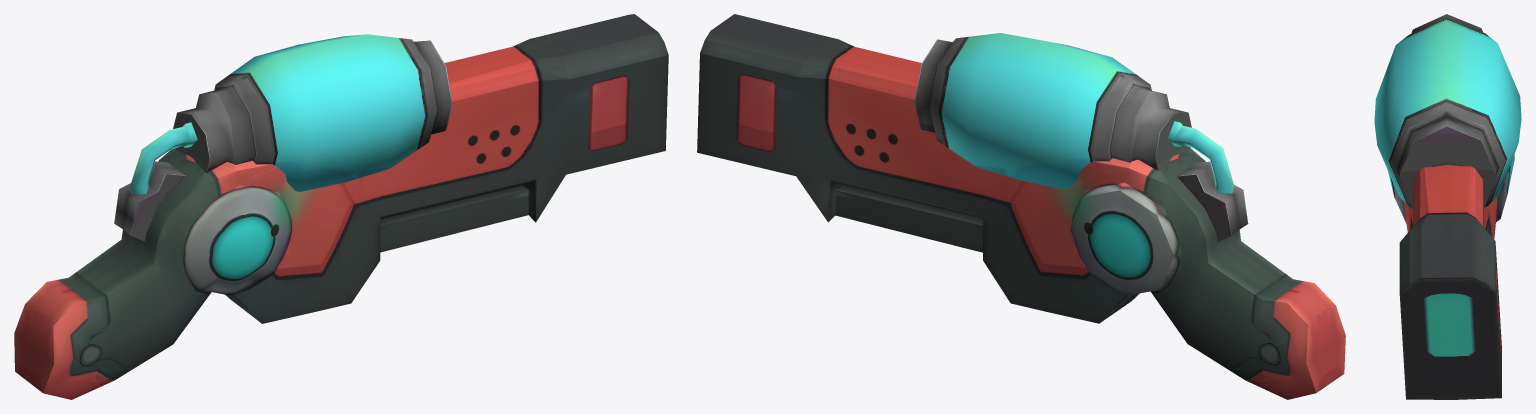
File: Gun_Ice.FBX
3 views of the same model, side by side, from view 1: azimuth 30°, elevation 25°; view 2: azimuth 150°, elevation 25°; view 3: azimuth 270°, elevation 25° (orthographic). The views are drawn at different scales.
Visible parts, largest first — view 1: gun_Ice; view 2: gun_Ice; view 3: gun_Ice.
Part boxes in pixels (<box>): gun_Ice: <box>14,14,668,399</box>; gun_Ice: <box>697,14,1345,399</box>; gun_Ice: <box>1374,14,1521,399</box>.
Bounding box in the file's own units: 176 × 78.27 × 34.08.
